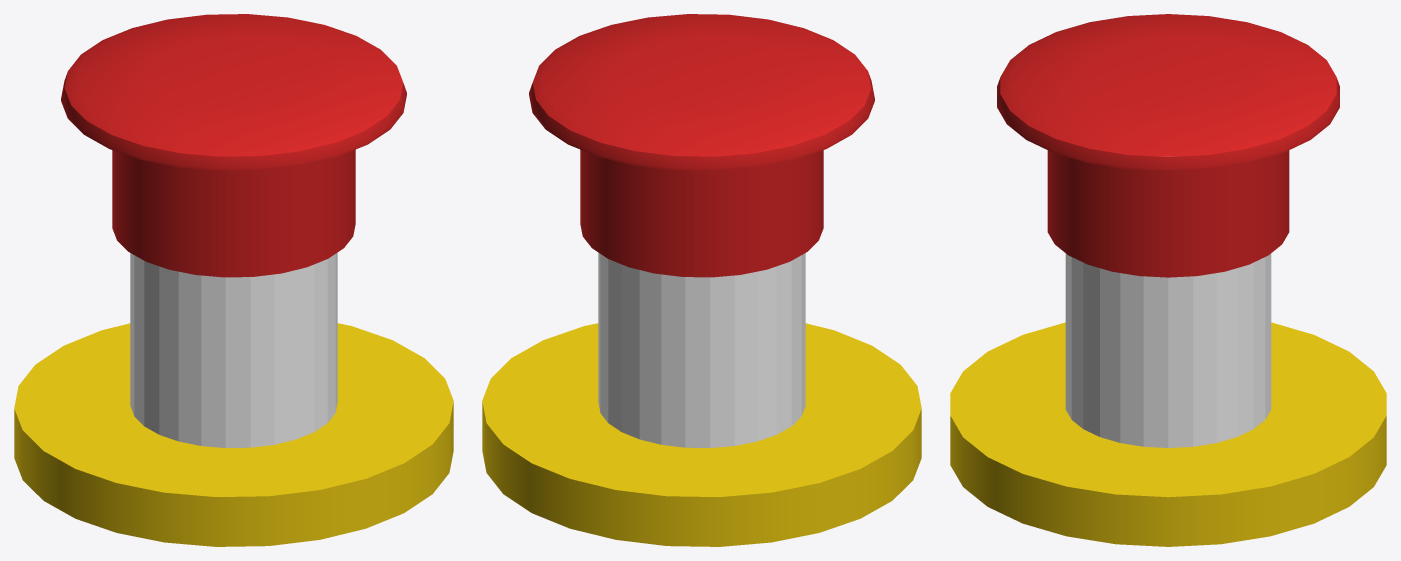
File: button_emergency.fbx
The picture shows the model from 3 angles, left to right: view 1: azimuth 30°, elevation 25°; view 2: azimuth 150°, elevation 25°; view 3: azimuth 270°, elevation 25°; orthographic projection.
Visible parts, largest first — view 1: emergencyStop, emergencyStop_button; view 2: emergencyStop, emergencyStop_button; view 3: emergencyStop, emergencyStop_button.
Part boxes in pixels (left/top/right/bottom): emergencyStop: left=14, top=252, right=453, bottom=546; emergencyStop_button: left=61, top=14, right=406, bottom=277; emergencyStop: left=482, top=252, right=921, bottom=546; emergencyStop_button: left=529, top=14, right=874, bottom=277; emergencyStop: left=950, top=253, right=1386, bottom=546; emergencyStop_button: left=997, top=14, right=1339, bottom=277.
Bounding box in the file's own units: 8 × 7.66 × 7.94.
